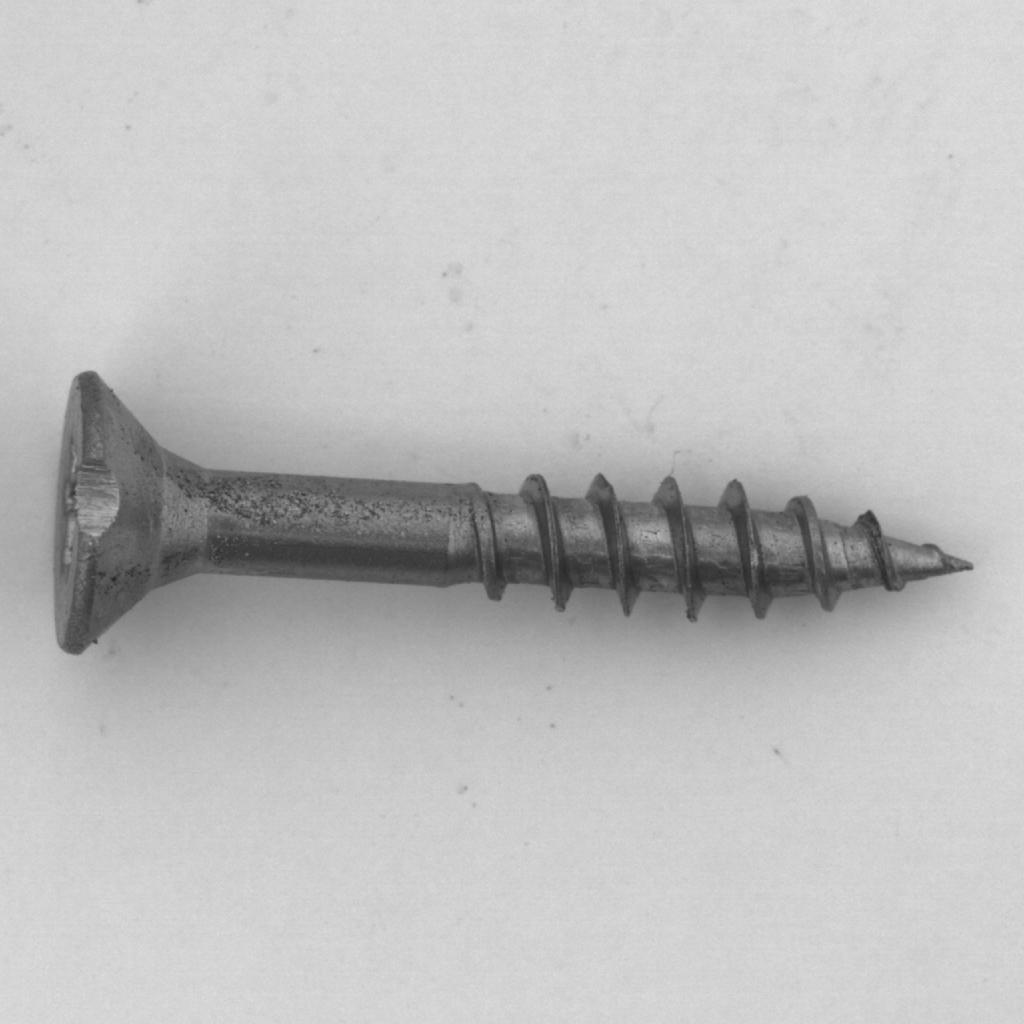bad: (24, 347, 990, 675)
